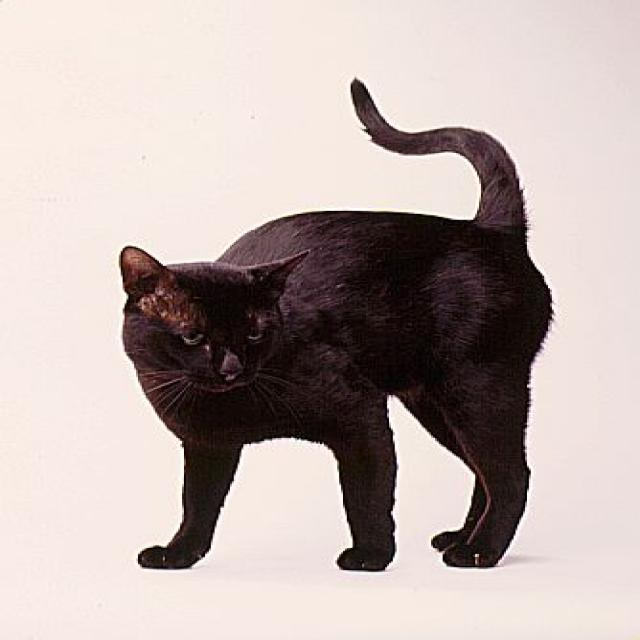Bombay: (108, 242, 313, 399)
